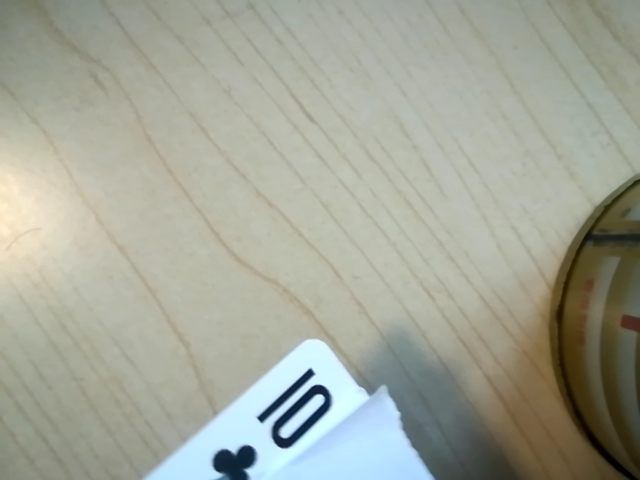mh 10: (215, 363, 349, 480)
